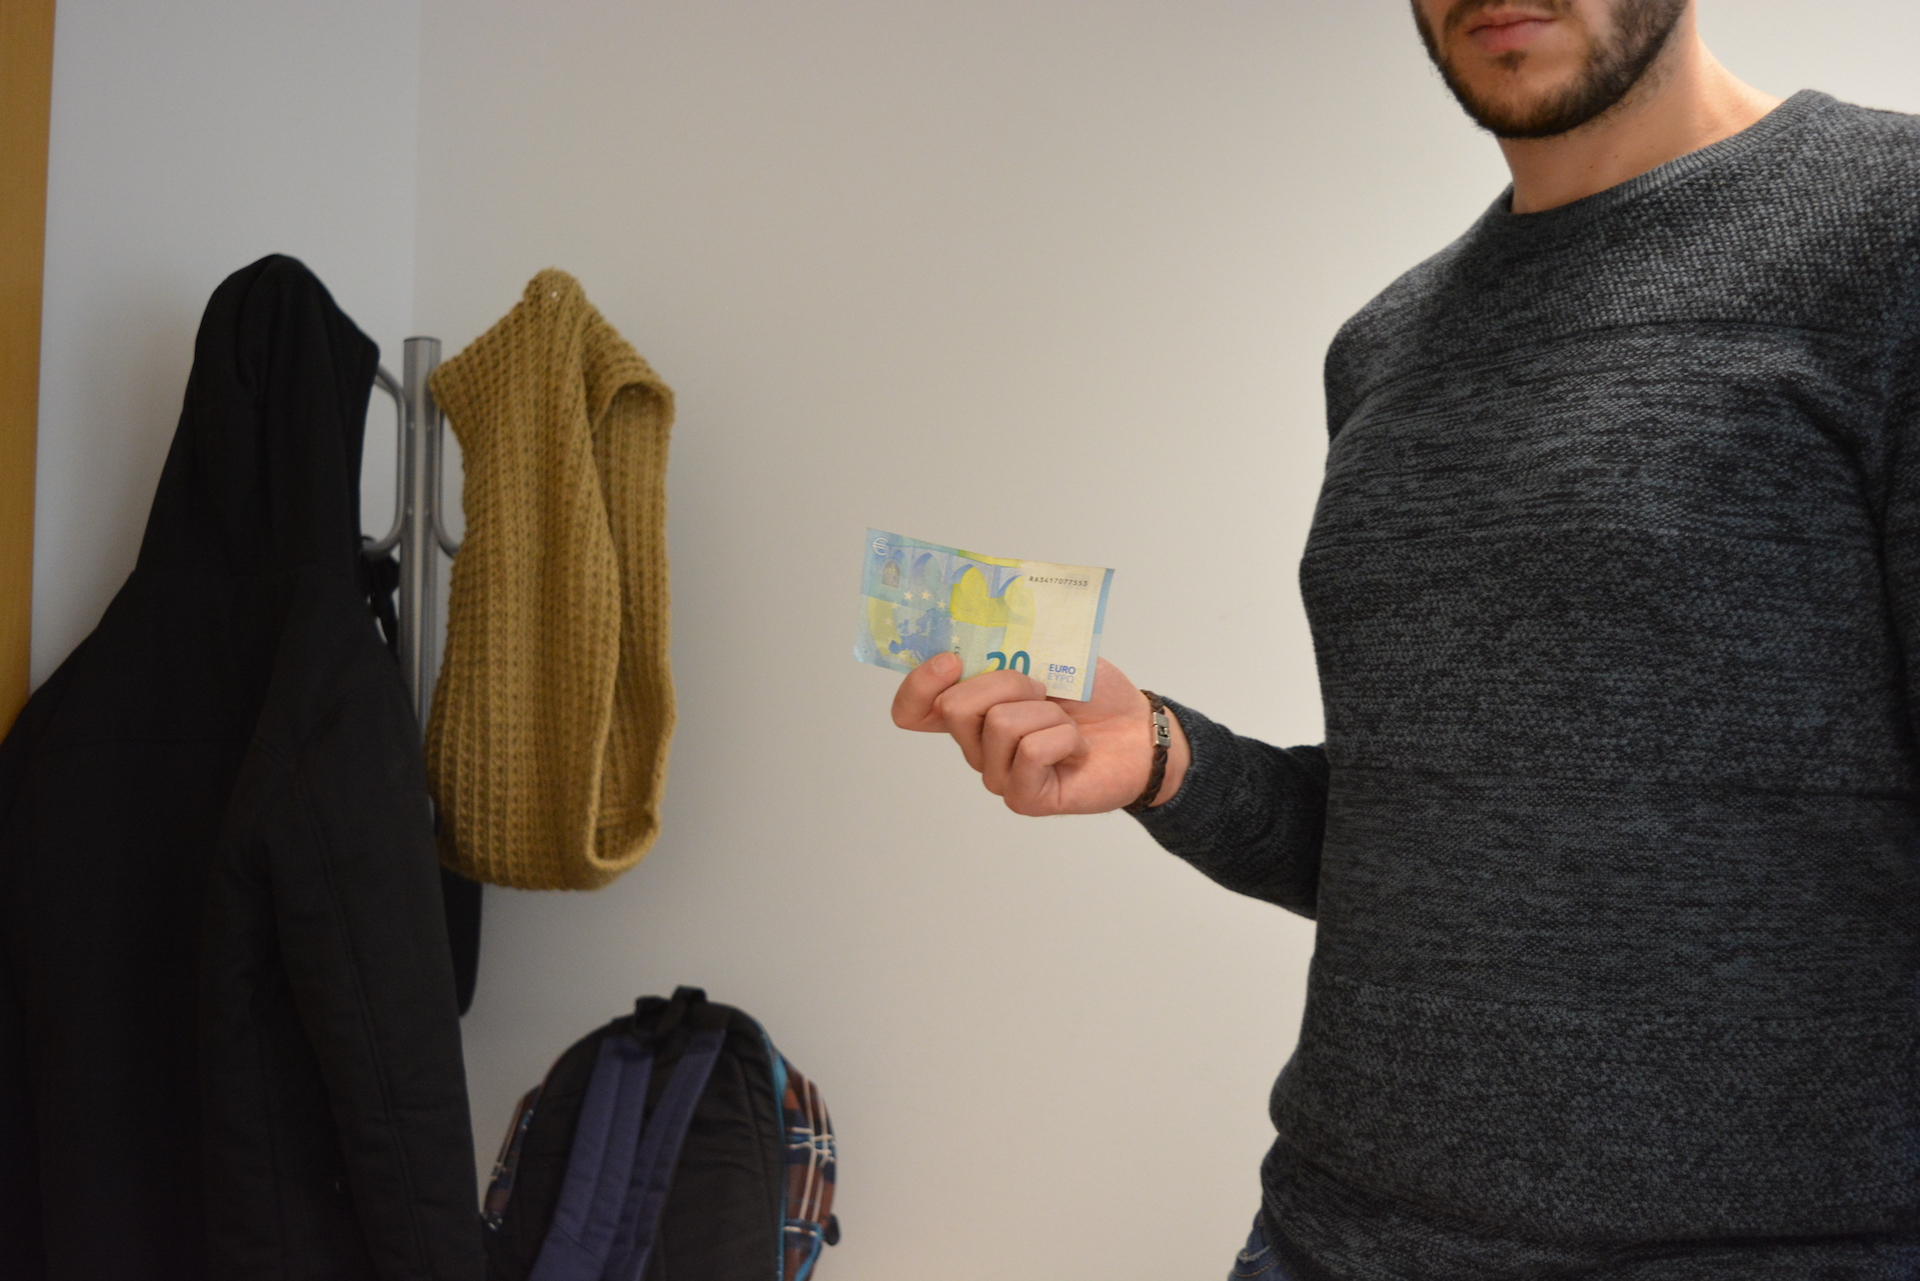billete: (851, 525, 1117, 703)
